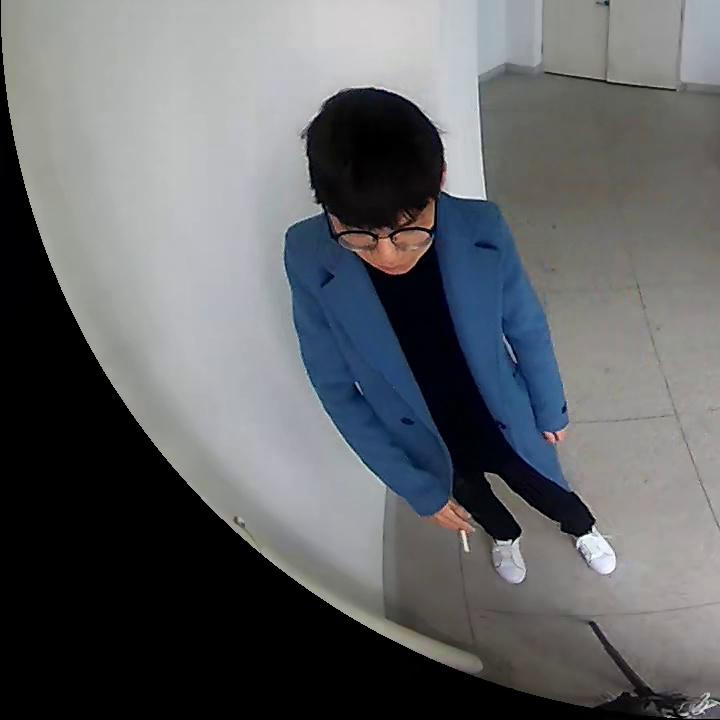handsmoke: (443, 503, 475, 554)
handwithoutsmoke: (543, 429, 566, 447)
mouthwithoutsmoke: (305, 86, 445, 277)
